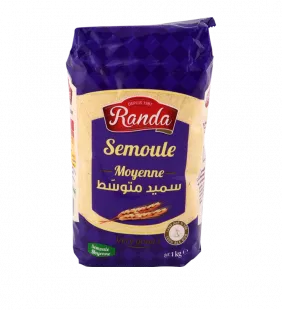RANDA: (60, 12, 227, 275)
